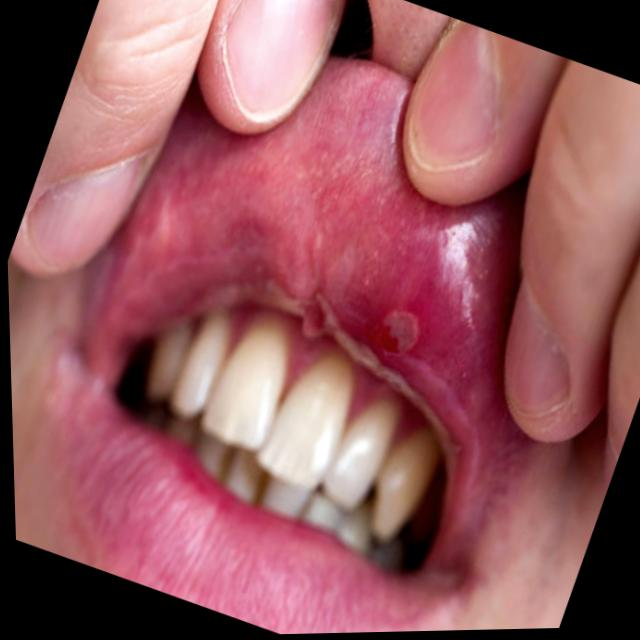ulcer: (372, 310, 420, 354)
